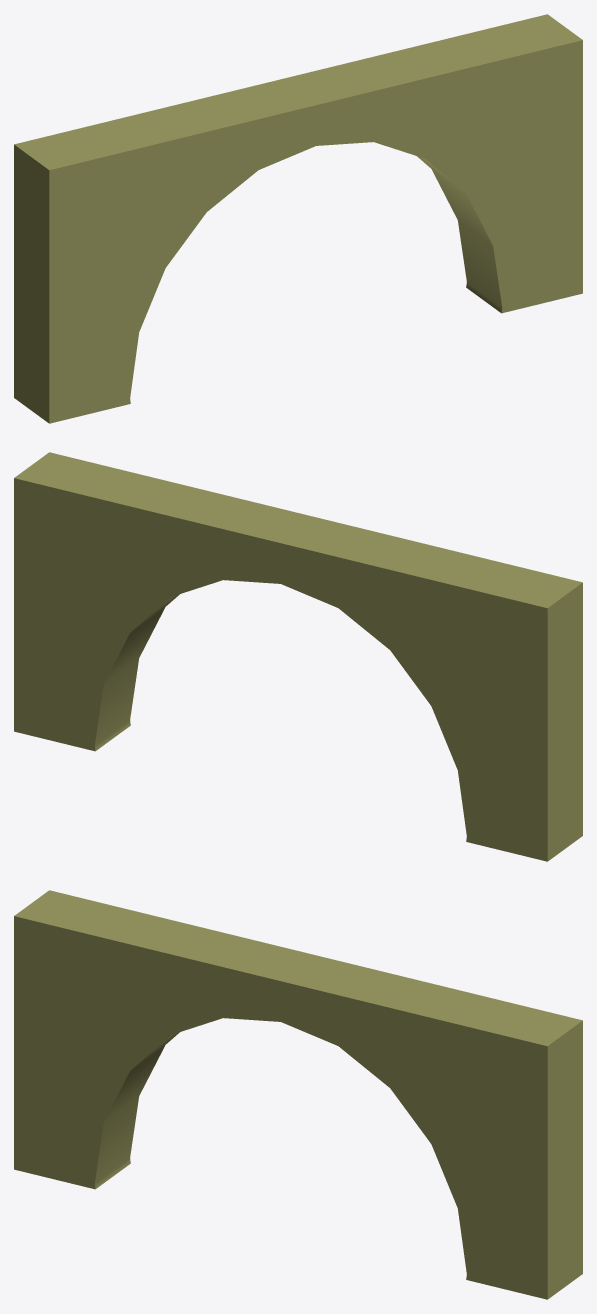
The model's file is bridge_blocks.fbx.
3 renders of one model, top to bottom at view 1: azimuth 30°, elevation 25°; view 2: azimuth 150°, elevation 25°; view 3: azimuth 330°, elevation 25°, orthographic.
Visible parts, largest first — view 1: pCube2; view 2: pCube2; view 3: pCube2.
Part boxes in pixels (box(x1,y1,x2,y2)): pCube2: box(14, 14, 582, 423); pCube2: box(14, 452, 582, 861); pCube2: box(14, 890, 582, 1299).
Bounding box in the file's own units: 8.71 × 3.95 × 1.
